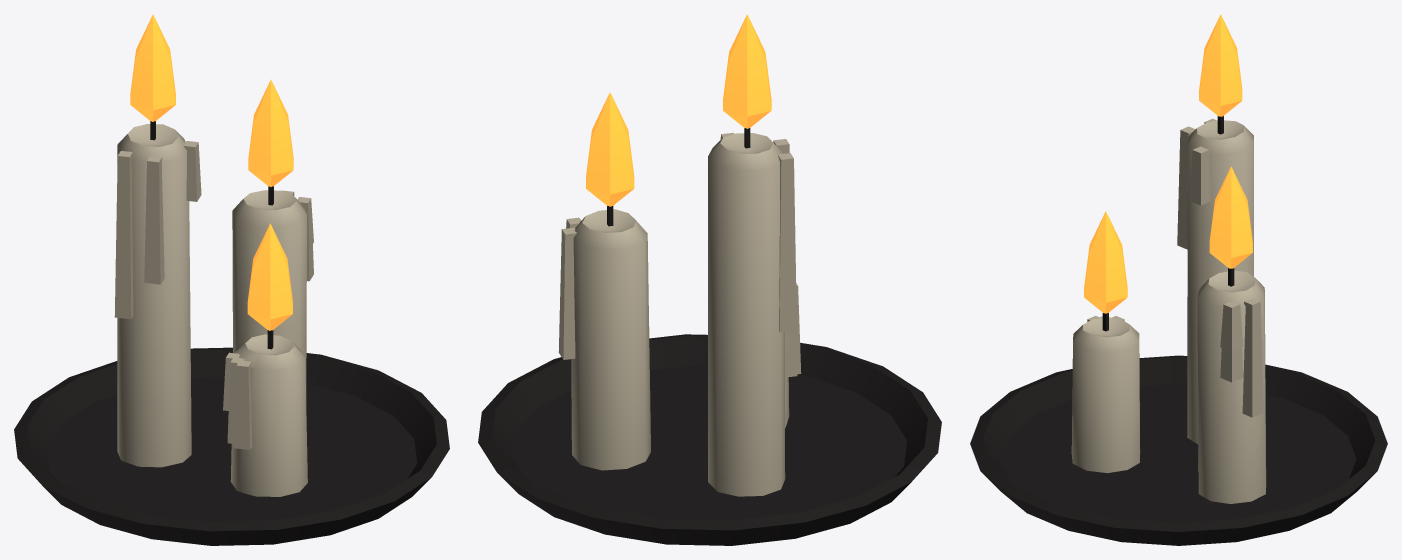
Rendered from kerzen.glb.
The picture shows the model from 3 angles, left to right: view 1: azimuth 30°, elevation 25°; view 2: azimuth 150°, elevation 25°; view 3: azimuth 270°, elevation 25°; orthographic projection. The views are drawn at different scales.
Visible parts, largest first — view 1: kerzen; view 2: kerzen; view 3: kerzen.
Part boxes in pixels (x1=…): kerzen: x1=14, y1=14, x2=449, y2=545; kerzen: x1=478, y1=14, x2=941, y2=545; kerzen: x1=970, y1=14, x2=1387, y2=545.
Bounding box in the file's own units: 0.2 × 0.225 × 0.2.
